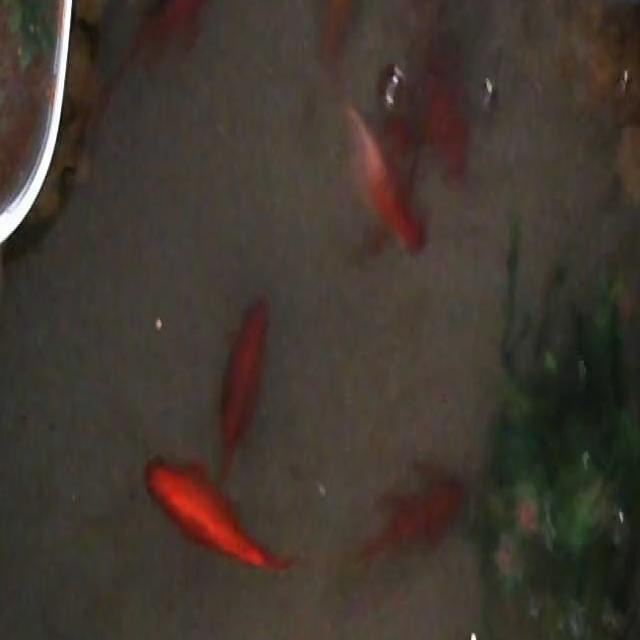fish: (85, 0, 220, 142), (142, 456, 299, 575), (350, 461, 469, 579), (341, 105, 424, 262), (218, 291, 271, 488), (410, 61, 470, 186), (318, 0, 355, 68)
